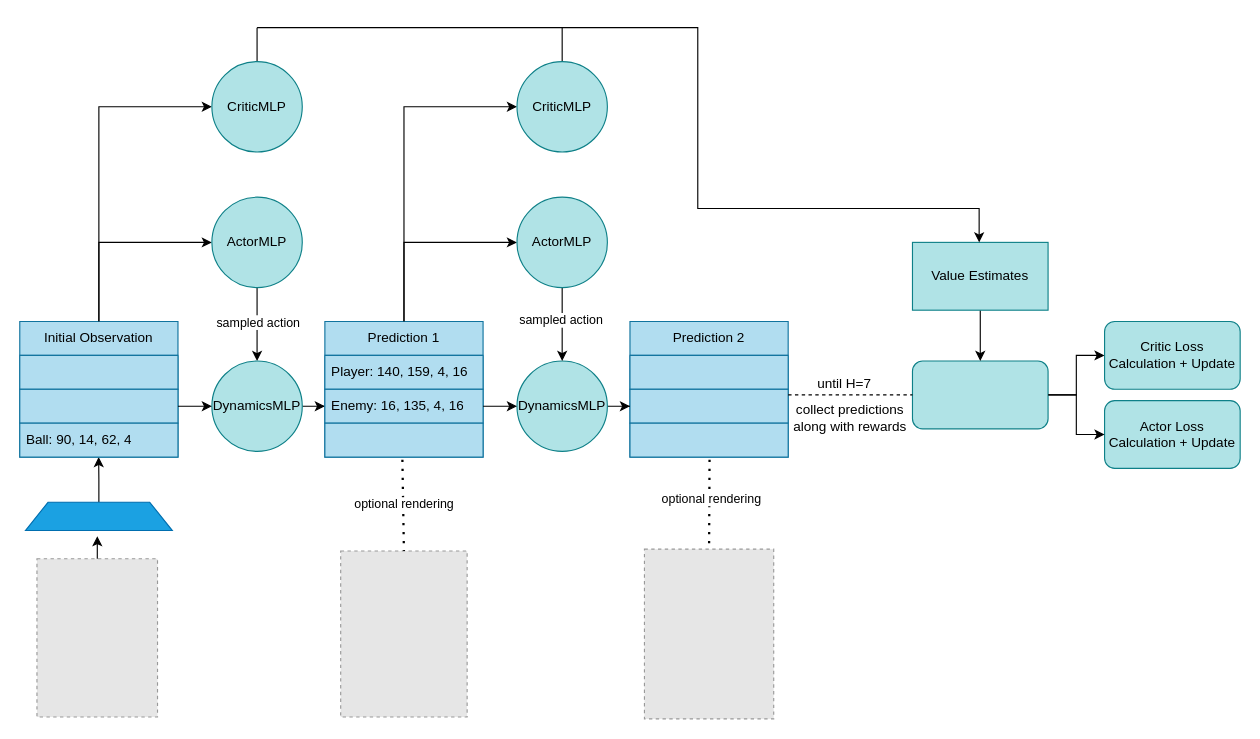
The diagram is 1260 pixels wide and 739 high, and some of its shapes have lost their labels. Grey dashed boxes stand in for pictures. The centre of each missing label's shape, as x and y in pixels:
"Ball: 94, 15, 42, 4" belongs at pixel 403 439.
"Ball: 98, 16, 22, 4" belongs at pixel 708 439.
"Enemy: 16, 129, 4, 16" belongs at pixel 98 405.
"Enemy: 16, 143, 4, 16" belongs at pixel 708 405.
"Jaxatari" belongs at pixel 98 516.
"Player: 140, 136, 4, 16" belongs at pixel 98 371.
"Player: 140, 176, 4, 16" belongs at pixel 708 371.
"λ-Return Computation" belongs at pixel 979 394.
